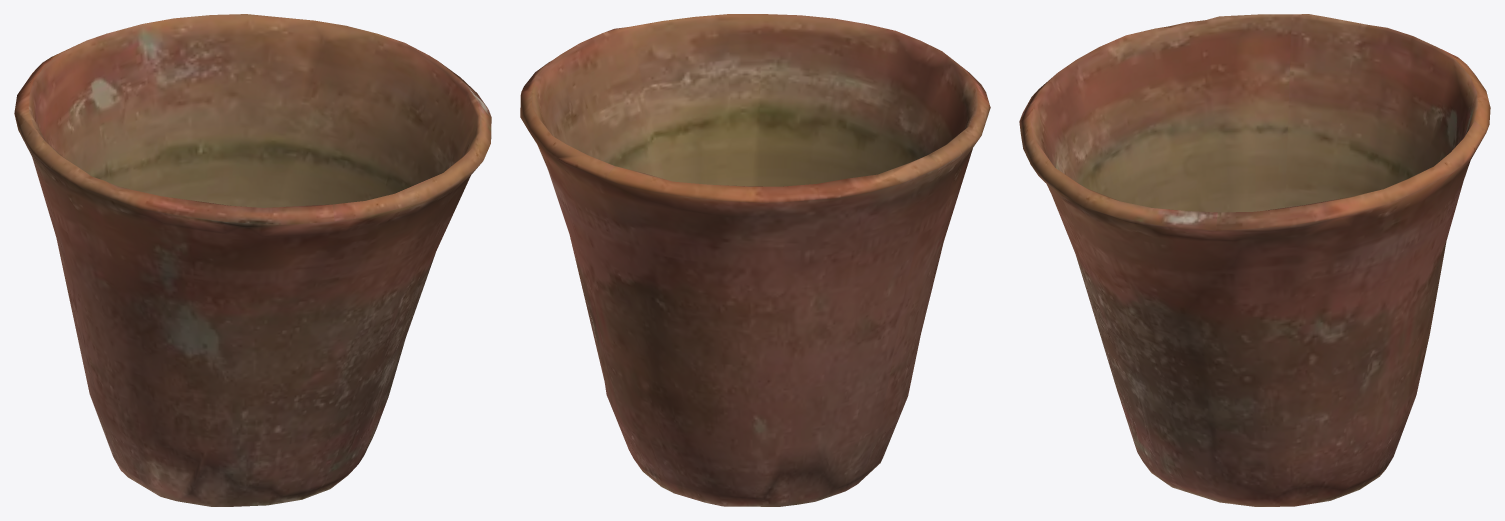
File: planter_pot_clay.glb
The picture shows the model from 3 angles, left to right: view 1: azimuth 30°, elevation 25°; view 2: azimuth 150°, elevation 25°; view 3: azimuth 270°, elevation 25°; orthographic projection.
Parts seen in each view (by area): view 1: planter_pot_clay; view 2: planter_pot_clay; view 3: planter_pot_clay.
Part boxes in pixels (<box>): planter_pot_clay: <box>14,14,491,506</box>; planter_pot_clay: <box>520,14,990,506</box>; planter_pot_clay: <box>1019,14,1490,506</box>.
Size of the model in its own units: 0.266 by 0.2218 by 0.2635.
Materials: 1 (1 with a texture image).
